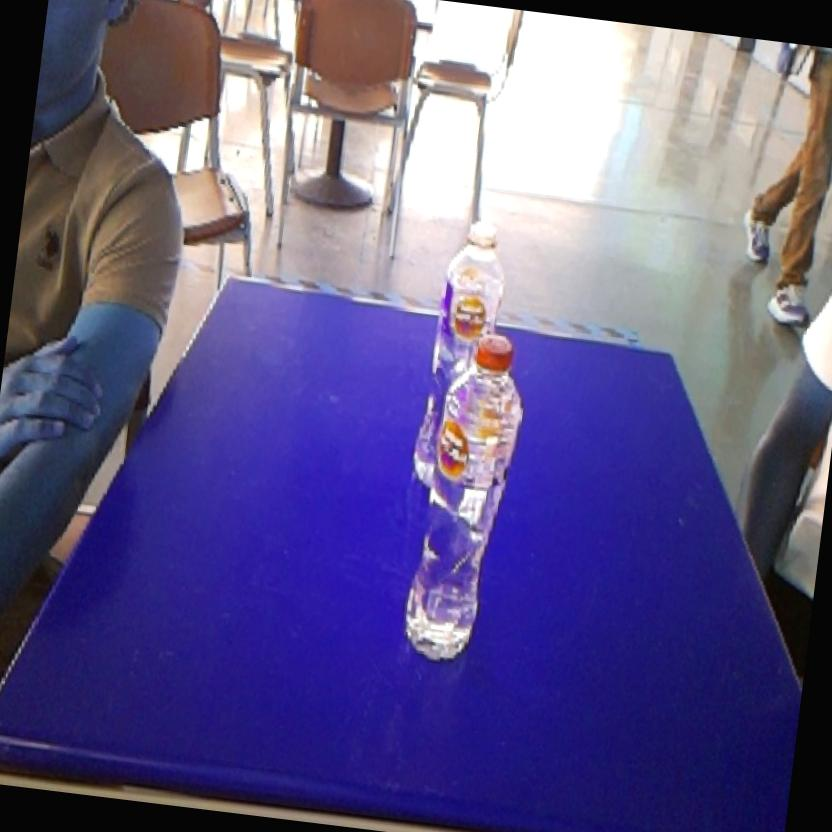good: (393, 321, 536, 676)
no_cap: (427, 208, 528, 332)
